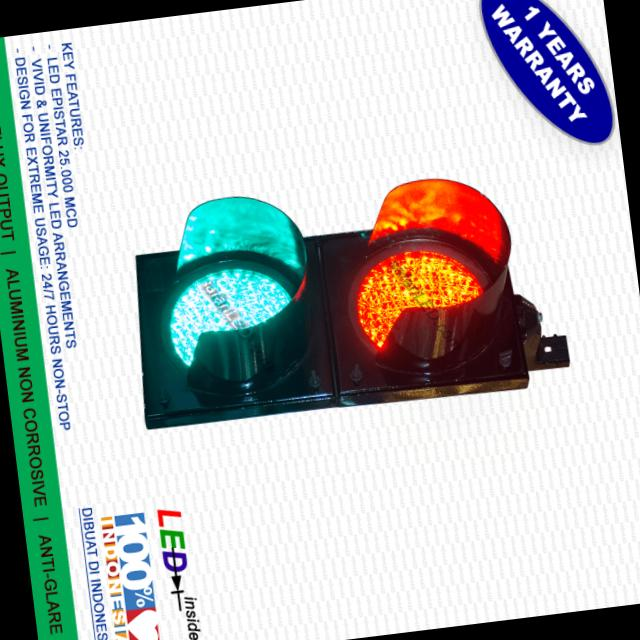green-lights: (160, 260, 298, 372)
red-lights: (349, 240, 490, 358)
